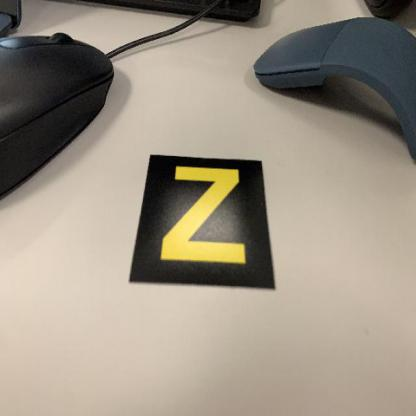z: (128, 153, 281, 293)
